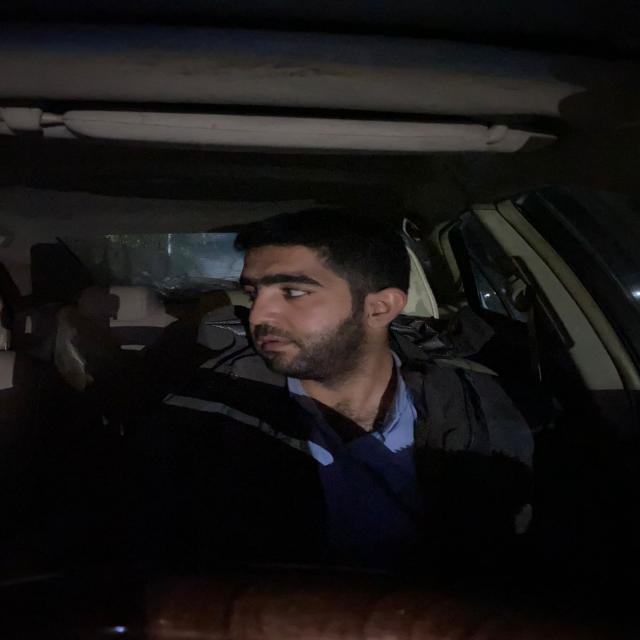LeftRight: (222, 232, 420, 377)
